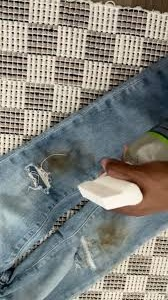earth: (97, 220, 118, 245), (46, 154, 76, 170)
